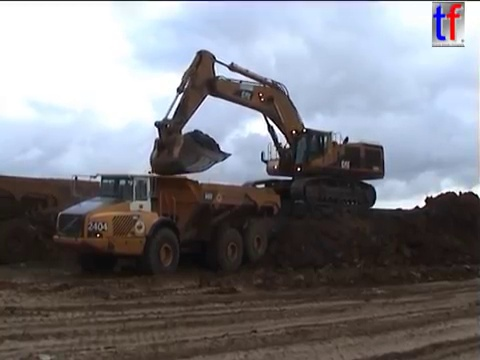excavator: (146, 48, 389, 213)
truck: (49, 167, 284, 278), (1, 172, 161, 267)
